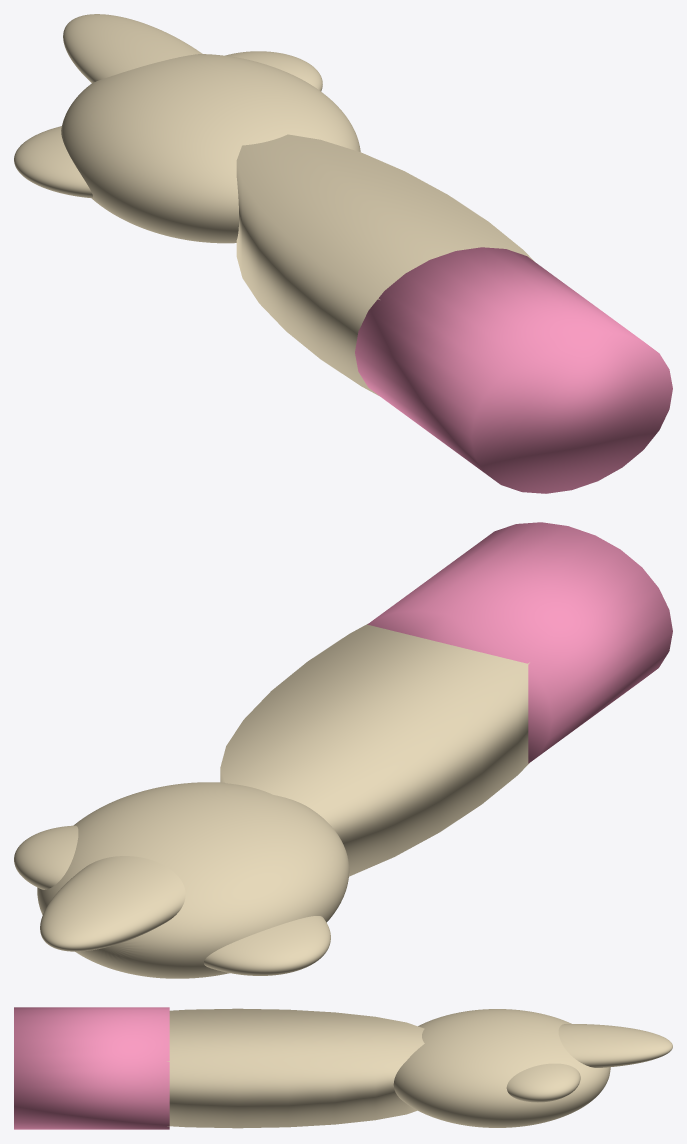
Rendered from slurm3.fbx.
The picture shows the model from 3 angles, top to bottom: view 1: azimuth 30°, elevation 25°; view 2: azimuth 150°, elevation 25°; view 3: azimuth 270°, elevation 25°; orthographic projection. The views are drawn at different scales.
Parts seen in each view (by area): view 1: Cylinder.001, Sphere, Cylinder; view 2: Sphere, Cylinder, Cylinder.001; view 3: Cylinder, Sphere, Cylinder.001.
Part boxes in pixels (bbox=[...]): Cylinder.001: bbox=[355, 247, 672, 493]; Sphere: bbox=[14, 14, 360, 243]; Cylinder: bbox=[236, 134, 534, 395]; Sphere: bbox=[14, 782, 349, 978]; Cylinder: bbox=[220, 623, 529, 876]; Cylinder.001: bbox=[367, 522, 672, 763]; Cylinder: bbox=[167, 1008, 424, 1128]; Sphere: bbox=[393, 1009, 672, 1127]; Cylinder.001: bbox=[14, 1007, 169, 1129].
Size of the model in its own units: 138 by 70 by 406.
